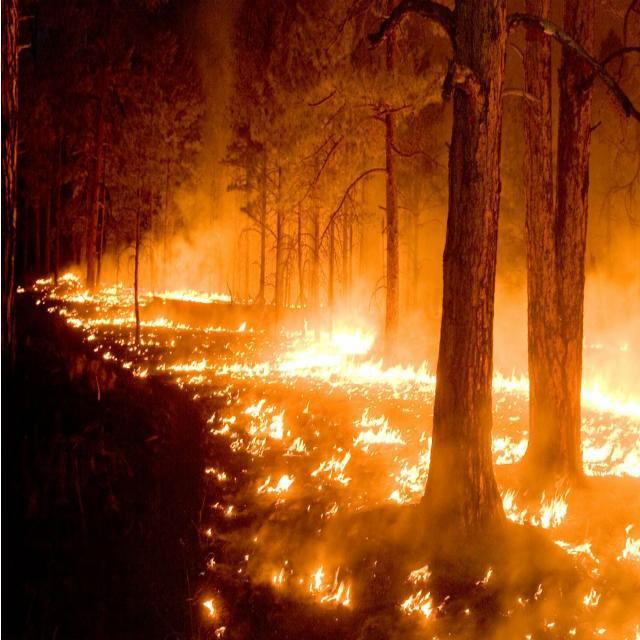Fire: (288, 318, 431, 398), (45, 272, 138, 334), (280, 551, 340, 619), (501, 489, 580, 539), (361, 404, 416, 470), (250, 389, 298, 457), (584, 428, 640, 485), (581, 360, 640, 412), (404, 550, 444, 625), (174, 348, 216, 409), (318, 450, 366, 499), (192, 308, 256, 342), (490, 364, 544, 404), (404, 426, 431, 506), (225, 354, 292, 386), (483, 422, 522, 472), (262, 468, 306, 512), (147, 314, 189, 356), (620, 537, 640, 585)
Smoke: (160, 16, 640, 312)
